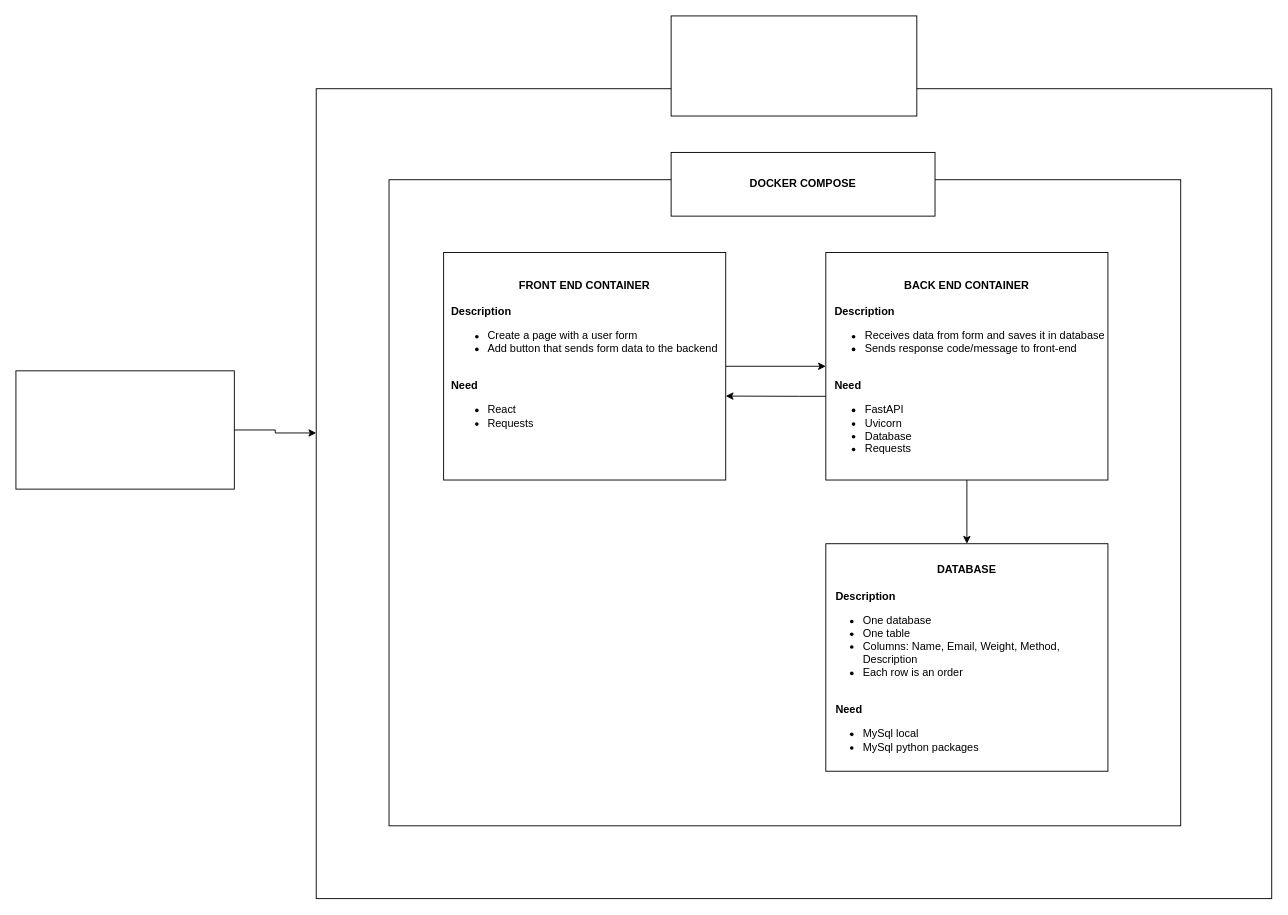
This 1288x915 diagram has some shape labels left out. The centre of each missing label's shape, as x and y in pixels:
"My Laptop" goes at (x=124, y=429).
"Server/Online Hosting Needed DNS" goes at (x=793, y=65).
